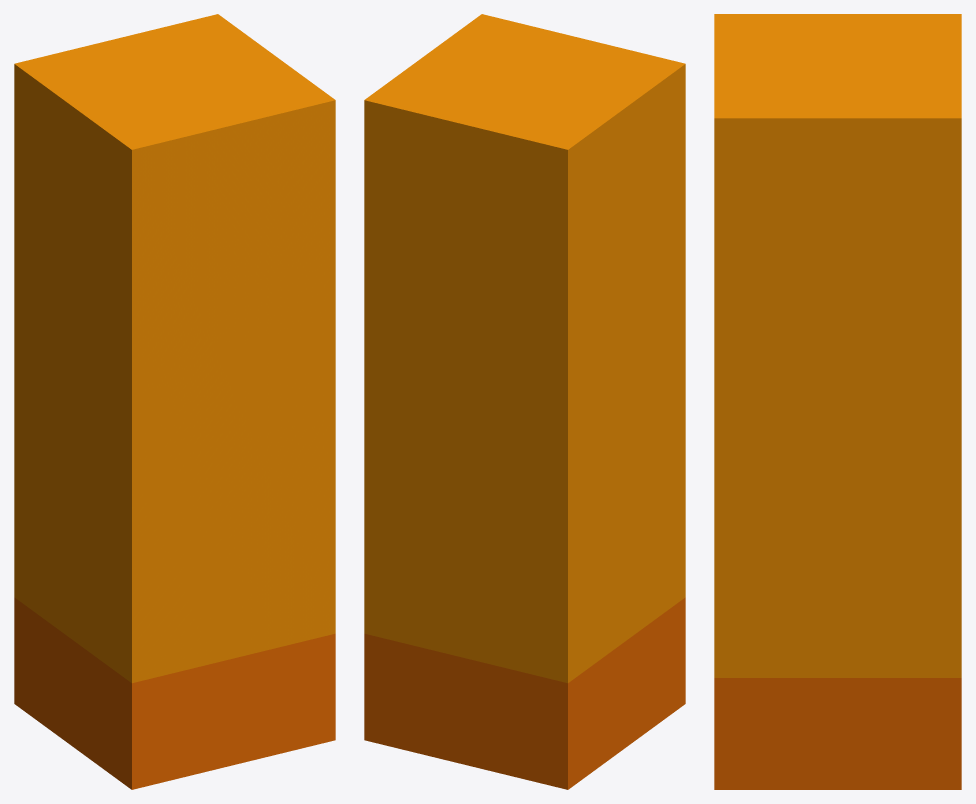
Rendered from Animals-27.obj.
3 renders of one model, left to right at view 1: azimuth 30°, elevation 25°; view 2: azimuth 150°, elevation 25°; view 3: azimuth 270°, elevation 25°, orthographic. The views are drawn at different scales.
Bounding box in the file's own units: 0.2 × 0.6 × 0.2.
Materials: 1 (1 with a texture image).
